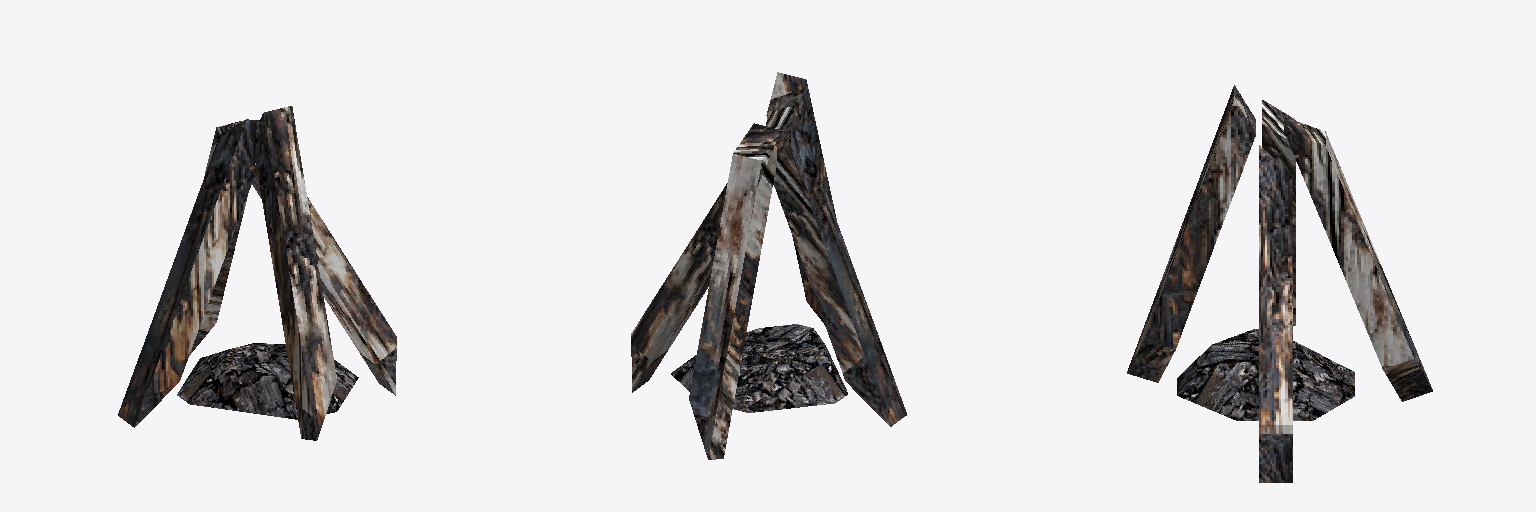
The picture shows the model from 3 angles: view 1: azimuth 30°, elevation 25°; view 2: azimuth 150°, elevation 25°; view 3: azimuth 270°, elevation 25°; orthographic projection.
Visible parts, largest first — view 1: Mesh4 Model, Mesh2 Model, Mesh5 Model, Mesh1 Model, Mesh3 Model; view 2: Mesh3 Model, Mesh2 Model, Mesh5 Model, Mesh1 Model, Mesh4 Model; view 3: Mesh3 Model, Mesh4 Model, Mesh1 Model, Mesh5 Model, Mesh2 Model.
Part boxes in pixels (left/top/right/bottom): Mesh4 Model: left=252, top=106, right=336, bottom=440; Mesh2 Model: left=118, top=119, right=258, bottom=427; Mesh5 Model: left=177, top=343, right=358, bottom=419; Mesh1 Model: left=250, top=163, right=396, bottom=395; Mesh3 Model: left=189, top=120, right=259, bottom=355; Mesh3 Model: left=689, top=123, right=782, bottom=459; Mesh2 Model: left=766, top=106, right=906, bottom=426; Mesh5 Model: left=671, top=324, right=847, bottom=412; Mesh1 Model: left=631, top=183, right=773, bottom=392; Mesh4 Model: left=766, top=72, right=836, bottom=324; Mesh3 Model: left=1284, top=117, right=1432, bottom=401; Mesh4 Model: left=1127, top=85, right=1255, bottom=382; Mesh1 Model: left=1259, top=145, right=1292, bottom=482; Mesh5 Model: left=1177, top=329, right=1354, bottom=420; Mesh2 Model: left=1262, top=100, right=1295, bottom=325.
Size of the model in its own units: 1126 by 1350 by 1146.
Materials: 2 (2 with a texture image).